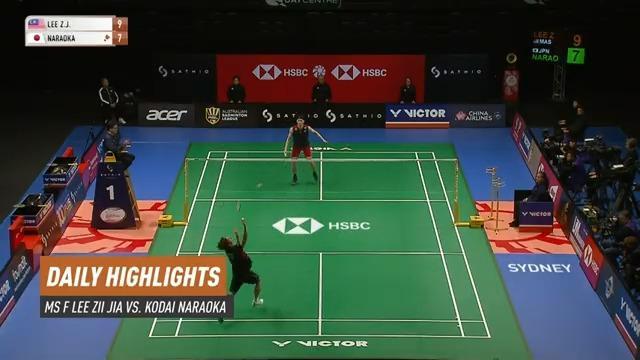Shuttlecock: (253, 181, 264, 192)
